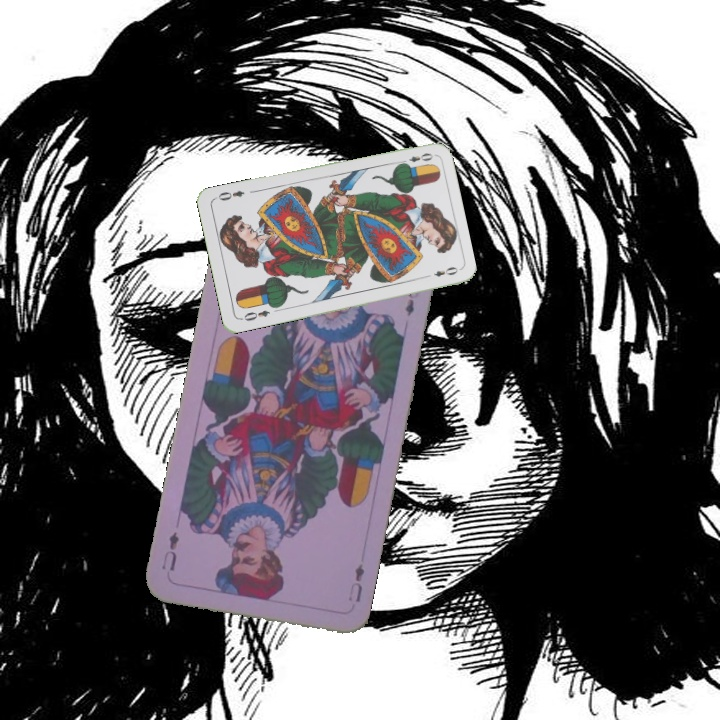EO: (396, 149, 436, 168), (237, 306, 272, 324)
EU: (344, 560, 367, 605)
